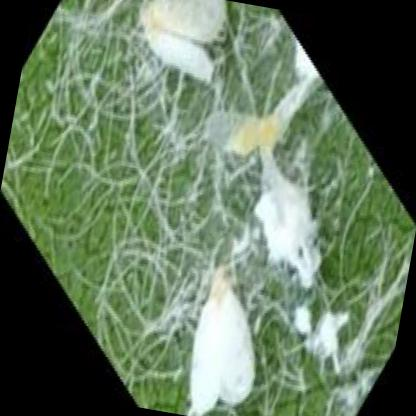whitefly: (191, 272, 254, 414), (141, 0, 223, 82)
